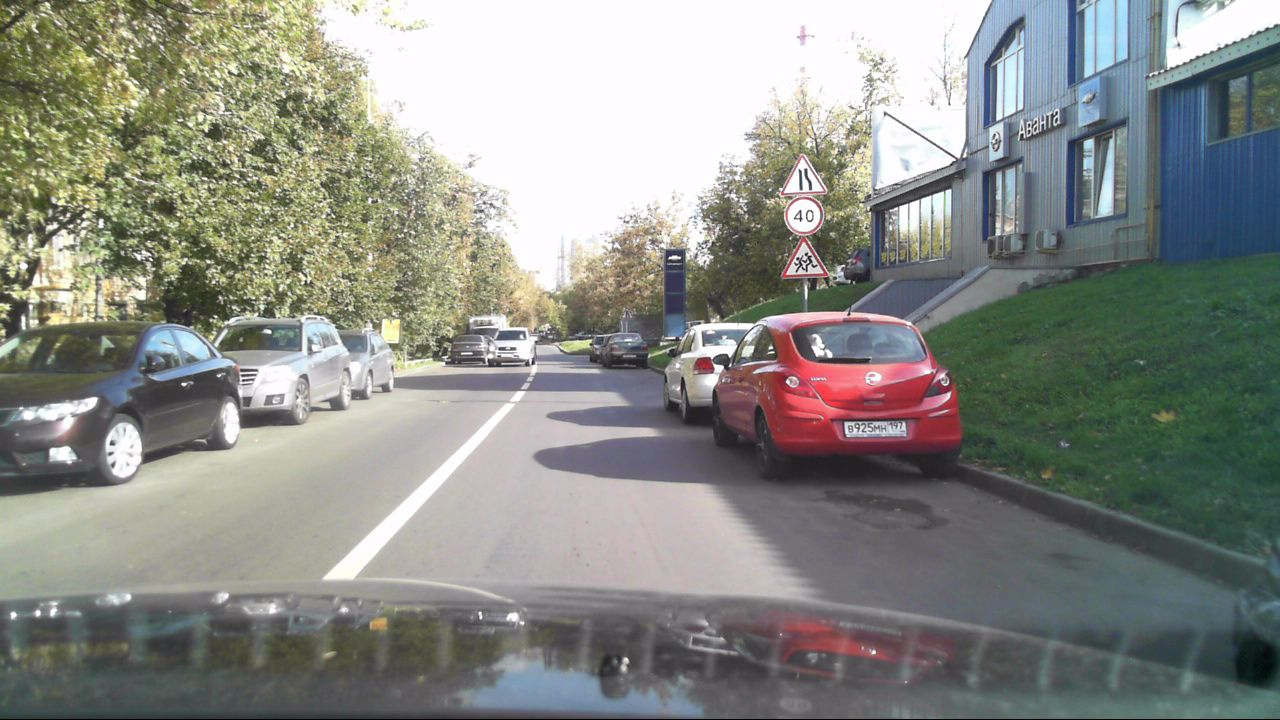speed_warning_40: (782, 192, 824, 238)
